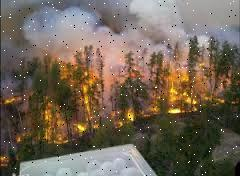fire: (8, 53, 238, 127)
